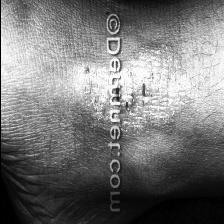Non-Cancerous Skin Condition: (122, 40, 192, 150), (57, 43, 106, 138)
